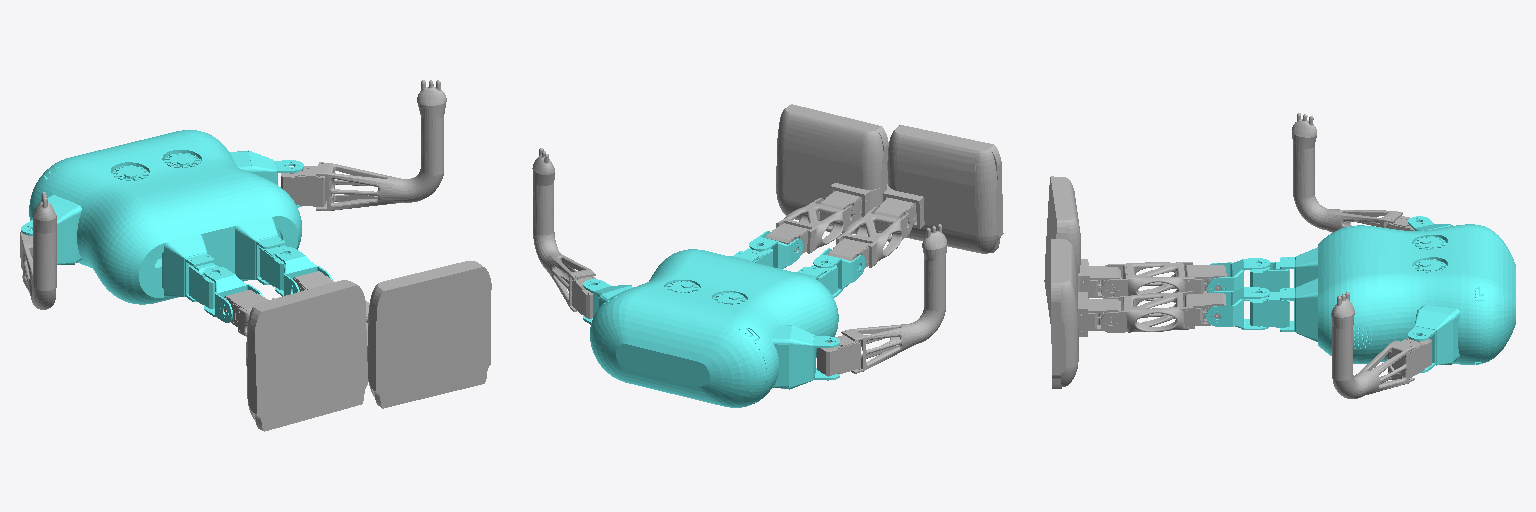
URDF robot description (Asem_URDF2.2):
<?xml version="1.0" encoding="utf-8"?>
<!-- This URDF was automatically created by SolidWorks to URDF Exporter! Originally created by [author] ([email redacted]) 
     Commit Version: 1.6.0-1-g15f4949  Build Version: 1.6.7594.29634
     For more information, please see http://wiki.ros.org/sw_urdf_exporter -->
<robot
  name="Asem_URDF2.2">
  <link
    name="base_link">
    <inertial>
      <origin
        xyz="0.00273860635706563 -0.189585332537804 -0.0418503138175"
        rpy="0 0 0" />
      <mass
        value="2.51232556100381" />
      <inertia
        ixx="0.00310363508347308"
        ixy="-2.83717693262433E-05"
        ixz="-1.89487380597375E-05"
        iyy="0.0051236149336858"
        iyz="-5.25064421213771E-05"
        izz="0.00359466778308024" />
    </inertial>
    <visual>
      <origin
        xyz="0 0 0"
        rpy="0 0 0" />
      <geometry>
        <mesh
          filename="base_link.STL" />
      </geometry>
      <material
        name="">
        <color
          rgba="0.470588235294118 1 1 1" />
      </material>
    </visual>
    <collision>
      <origin
        xyz="0 0 0"
        rpy="0 0 0" />
      <geometry>
        <mesh
          filename="base_link.STL" />
      </geometry>
    </collision>
  </link>
  <link
    name="left_hip">
    <inertial>
      <origin
        xyz="6.49127867291543E-08 0.0147488198448284 -1.38897146098604E-06"
        rpy="0 0 0" />
      <mass
        value="0.0182000419878892" />
      <inertia
        ixx="4.61904406212197E-06"
        ixy="3.99049700386581E-12"
        ixz="-1.20359375841464E-11"
        iyy="4.55422094522448E-06"
        iyz="-1.64972135781721E-10"
        izz="4.61891872101621E-06" />
    </inertial>
    <visual>
      <origin
        xyz="0 0 0"
        rpy="0 0 0" />
      <geometry>
        <mesh
          filename="left_hip.STL" />
      </geometry>
      <material
        name="">
        <color
          rgba="0.470588235294118 1 1 1" />
      </material>
    </visual>
    <collision>
      <origin
        xyz="0 0 0"
        rpy="0 0 0" />
      <geometry>
        <mesh
          filename="left_hip.STL" />
      </geometry>
    </collision>
  </link>
  <joint
    name="left_hipj"
    type="revolute">
    <origin
      xyz="0.0410000000000001 -0.214748198041392 -0.0482597761164081"
      rpy="0 0 0" />
    <parent
      link="base_link" />
    <child
      link="left_hip" />
    <axis
      xyz="0 0 1" />
    <limit
      lower="0"
      upper="0"
      effort="0"
      velocity="0" />
  </joint>
  <link
    name="left_knee">
    <inertial>
      <origin
        xyz="0.0396392202364896 0.04824540334431 0.0965474420476572"
        rpy="0 0 0" />
      <mass
        value="0.0689612295694067" />
      <inertia
        ixx="3.42775690179589E-05"
        ixy="-3.32883813960433E-07"
        ixz="5.76259510179577E-07"
        iyy="3.66875881854108E-05"
        iyz="1.07645451496406E-05"
        izz="2.42571770160966E-05" />
    </inertial>
    <visual>
      <origin
        xyz="0 0 0"
        rpy="0 0 0" />
      <geometry>
        <mesh
          filename="left_knee.STL" />
      </geometry>
      <material
        name="">
        <color
          rgba="0.752941176470588 0.752941176470588 0.752941176470588 1" />
      </material>
    </visual>
    <collision>
      <origin
        xyz="0 0 0"
        rpy="0 0 0" />
      <geometry>
        <mesh
          filename="left_knee.STL" />
      </geometry>
    </collision>
  </link>
  <joint
    name="left_kneej"
    type="revolute">
    <origin
      xyz="-0.0396797352396021 -0.116419550121589 0.0831945609809142"
      rpy="-2.02793214430178 0 0" />
    <parent
      link="left_hip" />
    <child
      link="left_knee" />
    <axis
      xyz="1 0 0" />
    <limit
      lower="0"
      upper="0"
      effort="0"
      velocity="0" />
  </joint>
  <link
    name="left_ankle">
    <inertial>
      <origin
        xyz="0.064296609347001 0.0687805563450677 0.09505595208941"
        rpy="0 0 0" />
      <mass
        value="0.508305315550368" />
      <inertia
        ixx="0.000639578408517216"
        ixy="6.35687523771487E-06"
        ixz="-3.89612935539662E-06"
        iyy="0.00124671749506692"
        iyz="2.76032825552061E-06"
        izz="0.000688373458609745" />
    </inertial>
    <visual>
      <origin
        xyz="0 0 0"
        rpy="0 0 0" />
      <geometry>
        <mesh
          filename="left_ankle.STL" />
      </geometry>
      <material
        name="">
        <color
          rgba="0.752941176470588 0.752941176470588 0.752941176470588 1" />
      </material>
    </visual>
    <collision>
      <origin
        xyz="0 0 0"
        rpy="0 0 0" />
      <geometry>
        <mesh
          filename="left_ankle.STL" />
      </geometry>
    </collision>
  </link>
  <joint
    name="left_anklej"
    type="revolute">
    <origin
      xyz="0.00872830146334291 0.208131576886517 -0.0406094330433439"
      rpy="2.03287638625548 0 0" />
    <parent
      link="left_knee" />
    <child
      link="left_ankle" />
    <axis
      xyz="1 0 0" />
    <limit
      lower="0"
      upper="0"
      effort="0"
      velocity="0" />
  </joint>
  <link
    name="right_hip">
    <inertial>
      <origin
        xyz="6.26175276630114E-08 0.0147488203563727 -1.38900650609175E-06"
        rpy="0 0 0" />
      <mass
        value="0.0182000425195511" />
      <inertia
        ixx="4.61904407070278E-06"
        ixy="4.06415332010876E-12"
        ixz="-1.18399397404963E-11"
        iyy="4.5542216832972E-06"
        iyz="-1.65078832016321E-10"
        izz="4.61891927695759E-06" />
    </inertial>
    <visual>
      <origin
        xyz="0 0 0"
        rpy="0 0 0" />
      <geometry>
        <mesh
          filename="right_hip.STL" />
      </geometry>
      <material
        name="">
        <color
          rgba="0.470588235294118 1 1 1" />
      </material>
    </visual>
    <collision>
      <origin
        xyz="0 0 0"
        rpy="0 0 0" />
      <geometry>
        <mesh
          filename="right_hip.STL" />
      </geometry>
    </collision>
  </link>
  <joint
    name="right_hipj"
    type="revolute">
    <origin
      xyz="-0.0387209659142299 -0.214679791167745 -0.0505097761155165"
      rpy="0 0 0.0600134430479884" />
    <parent
      link="base_link" />
    <child
      link="right_hip" />
    <axis
      xyz="0 0 1" />
    <limit
      lower="0"
      upper="0"
      effort="0"
      velocity="0" />
  </joint>
  <link
    name="right_knee">
    <inertial>
      <origin
        xyz="0.0396392356642763 0.0482454580381397 0.0965473275419001"
        rpy="0 0 0" />
      <mass
        value="0.068961373549845" />
      <inertia
        ixx="3.42776008989011E-05"
        ixy="-3.32865031269742E-07"
        ixz="5.7622669092844E-07"
        iyy="3.66875993226641E-05"
        iyz="1.07645719984772E-05"
        izz="2.42572077794417E-05" />
    </inertial>
    <visual>
      <origin
        xyz="0 0 0"
        rpy="0 0 0" />
      <geometry>
        <mesh
          filename="right_knee.STL" />
      </geometry>
      <material
        name="">
        <color
          rgba="0.752941176470588 0.752941176470588 0.752941176470588 1" />
      </material>
    </visual>
    <collision>
      <origin
        xyz="0 0 0"
        rpy="0 0 0" />
      <geometry>
        <mesh
          filename="right_knee.STL" />
      </geometry>
    </collision>
  </link>
  <joint
    name="right_kneej"
    type="revolute">
    <origin
      xyz="-0.0396797352396023 -0.109565573595318 0.091398552021913"
      rpy="-2.10640317850697 0 0" />
    <parent
      link="right_hip" />
    <child
      link="right_knee" />
    <axis
      xyz="1 0 0" />
    <limit
      lower="0"
      upper="0"
      effort="0"
      velocity="0" />
  </joint>
  <link
    name="right_ankle">
    <inertial>
      <origin
        xyz="-0.0210223460294471 -0.050074154109761 0.017589867392335"
        rpy="0 0 0" />
      <mass
        value="0.508298587672201" />
      <inertia
        ixx="0.000639581748865773"
        ixy="-6.36565884184124E-06"
        ixz="3.89302062163781E-06"
        iyy="0.00124672263383992"
        iyz="2.75712030404062E-06"
        izz="0.000688374619270354" />
    </inertial>
    <visual>
      <origin
        xyz="0 0 0"
        rpy="0 0 0" />
      <geometry>
        <mesh
          filename="right_ankle.STL" />
      </geometry>
      <material
        name="">
        <color
          rgba="0.752941176470588 0.752941176470588 0.752941176470588 1" />
      </material>
    </visual>
    <collision>
      <origin
        xyz="0 0 0"
        rpy="0 0 0" />
      <geometry>
        <mesh
          filename="right_ankle.STL" />
      </geometry>
    </collision>
  </link>
  <joint
    name="right_anklej"
    type="revolute">
    <origin
      xyz="0.02643 0.085804 0.031246"
      rpy="2.0551 0 0" />
    <parent
      link="right_knee" />
    <child
      link="right_ankle" />
    <axis
      xyz="1 0 0" />
    <limit
      lower="0"
      upper="0"
      effort="0"
      velocity="0" />
  </joint>
  <link
    name="left_arm">
    <inertial>
      <origin
        xyz="0.0678355839824863 0.0749872886958564 0.0585719544893386"
        rpy="0 0 0" />
      <mass
        value="0.080523854996151" />
      <inertia
        ixx="0.000100188452717387"
        ixy="2.11991927733245E-09"
        ixz="-5.69167654051837E-05"
        iyy="0.000173357324851997"
        iyz="1.55266787601804E-09"
        izz="8.18547374828311E-05" />
    </inertial>
    <visual>
      <origin
        xyz="0 0 0"
        rpy="0 0 0" />
      <geometry>
        <mesh
          filename="left_arm.STL" />
      </geometry>
      <material
        name="">
        <color
          rgba="0.752941176470588 0.752941176470588 0.752941176470588 1" />
      </material>
    </visual>
    <collision>
      <origin
        xyz="0 0 0"
        rpy="0 0 0" />
      <geometry>
        <mesh
          filename="left_arm.STL" />
      </geometry>
    </collision>
  </link>
  <joint
    name="left_armj"
    type="revolute">
    <origin
      xyz="0.10574 -0.058791 -0.086755"
      rpy="0 0 -0.64476" />
    <parent
      link="base_link" />
    <child
      link="left_arm" />
    <axis
      xyz="0 0 -1" />
    <limit
      lower="0"
      upper="0"
      effort="0"
      velocity="0" />
  </joint>
  <link
    name="right_arm">
    <inertial>
      <origin
        xyz="0.067835481254586 0.0749874178387854 0.0585723398404888"
        rpy="0 0 0" />
      <mass
        value="0.0805241980656365" />
      <inertia
        ixx="0.000100188501960516"
        ixy="2.16393918878703E-09"
        ixz="-5.69167745449833E-05"
        iyy="0.000173357294419626"
        iyz="1.52425115125117E-09"
        izz="8.18545118713855E-05" />
    </inertial>
    <visual>
      <origin
        xyz="0 0 0"
        rpy="0 0 0" />
      <geometry>
        <mesh
          filename="right_arm.STL" />
      </geometry>
      <material
        name="">
        <color
          rgba="0.752941176470588 0.752941176470588 0.752941176470588 1" />
      </material>
    </visual>
    <collision>
      <origin
        xyz="0 0 0"
        rpy="0 0 0" />
      <geometry>
        <mesh
          filename="right_arm.STL" />
      </geometry>
    </collision>
  </link>
  <joint
    name="right_armj"
    type="revolute">
    <origin
      xyz="-0.217707976701913 0.0328973610598012 -0.0857548077610811"
      rpy="0 0 -2.01708426643299" />
    <parent
      link="base_link" />
    <child
      link="right_arm" />
    <axis
      xyz="0 0 -1" />
    <limit
      lower="0"
      upper="0"
      effort="0"
      velocity="0" />
  </joint>
</robot>

--- What the picture shows (computed from the rendered views, not written in the file) ---
Views: 3 orthographic renders of the robot side by side, from view 1: azimuth 30°, elevation 25°; view 2: azimuth 150°, elevation 25°; view 3: azimuth 270°, elevation 25°.
Model Asem_URDF2.2 with 9 links and 8 joints (8 revolute), rooted at base_link, posed all joints at 0.
Visible links, largest first — view 1: base_link, left_ankle, right_ankle, left_arm, right_arm, right_hip, left_hip, right_knee, left_knee; view 2: base_link, right_ankle, left_ankle, right_arm, left_arm, right_knee, left_knee, right_hip, left_hip; view 3: base_link, left_ankle, left_arm, right_arm, left_knee, right_ankle, right_knee, left_hip, right_hip.
Boxes of the visible links, x1,y1,x2,y2 form: base_link: (21,130,303,308); left_ankle: (366,261,491,408); right_ankle: (246,280,367,431); left_arm: (281,80,446,210); right_arm: (20,192,56,309); right_hip: (204,266,262,322); left_hip: (275,247,332,296); right_knee: (224,290,274,336); left_knee: (293,271,369,323); base_link: (583,245,839,407); right_ankle: (875,125,1003,253); left_ankle: (776,104,888,233); right_arm: (817,224,946,375); left_arm: (532,148,595,318); right_knee: (828,206,912,268); left_knee: (766,198,856,254); right_hip: (813,248,864,297); left_hip: (749,231,802,268); base_link: (1250,216,1515,372); left_ankle: (1051,239,1120,388); left_arm: (1331,292,1431,398); right_arm: (1292,113,1414,232); left_knee: (1100,291,1225,332); right_ankle: (1044,176,1121,323); right_knee: (1102,262,1226,300); left_hip: (1206,287,1269,329); right_hip: (1207,258,1269,300).
Size in the robot's own frame: 0.5 by 0.5251 by 0.1772 metres.
Meshes: 9 distinct files referenced, 9 mesh visuals loaded (9 binary STL).
